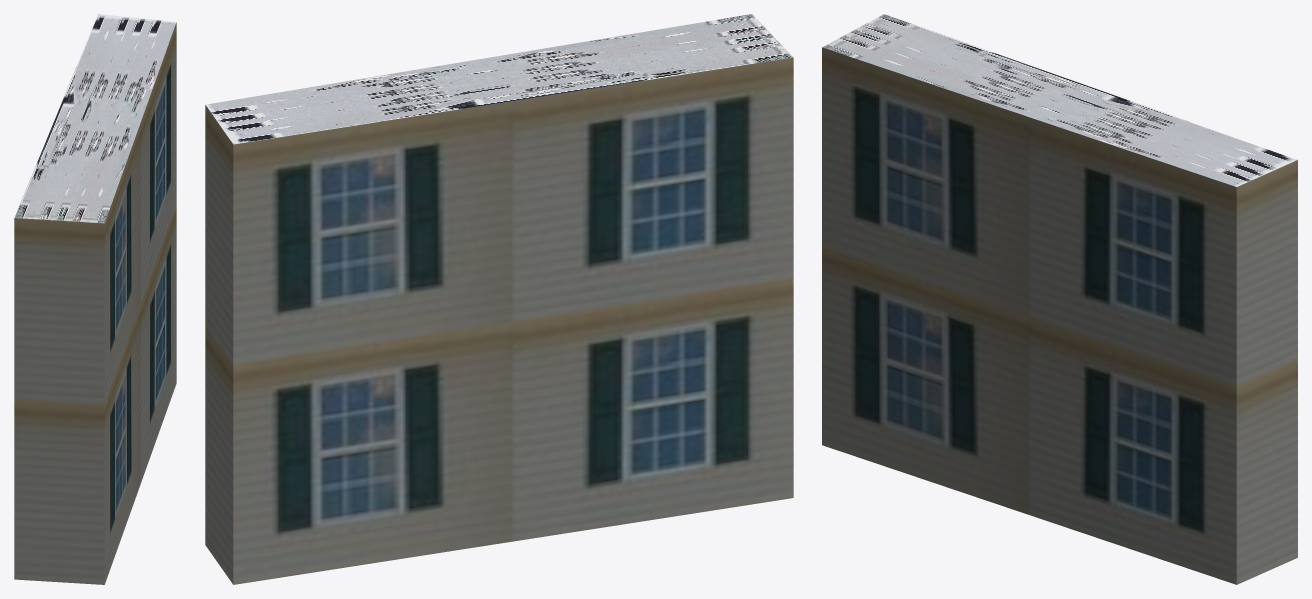
Rendered from ResTex__422.fbx.
3 renders of one model, left to right at view 1: azimuth 30°, elevation 25°; view 2: azimuth 150°, elevation 25°; view 3: azimuth 270°, elevation 25°, orthographic. The views are drawn at different scales.
Visible parts, largest first — view 1: CityEngineMaterial_7_m, CityEngineMaterial_8_m; view 2: CityEngineMaterial_7_m, CityEngineMaterial_8_m; view 3: CityEngineMaterial_7_m, CityEngineMaterial_8_m.
Boxes of the visible parts, x1=… form: CityEngineMaterial_7_m: x1=14, y1=22, x2=176, y2=584; CityEngineMaterial_8_m: x1=14, y1=14, x2=176, y2=223; CityEngineMaterial_7_m: x1=205, y1=57, x2=793, y2=584; CityEngineMaterial_8_m: x1=206, y1=14, x2=793, y2=144; CityEngineMaterial_7_m: x1=822, y1=47, x2=1297, y2=584; CityEngineMaterial_8_m: x1=822, y1=14, x2=1297, y2=186.
Bounding box in the file's own units: 5.6 × 6 × 6.5.
Materials: 2 (2 with a texture image).
